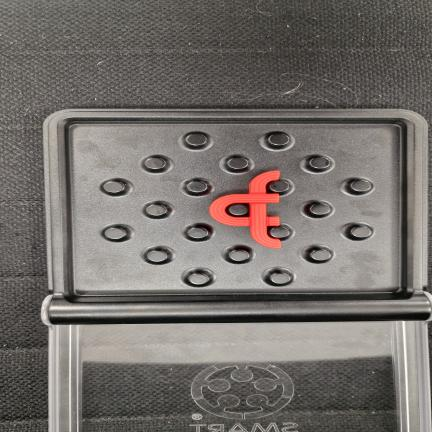E_Red: (210, 171, 281, 248)
board: (43, 109, 432, 324)
hinge: (40, 294, 432, 320)
pin: (268, 133, 289, 147), (144, 157, 166, 170), (103, 181, 125, 194), (145, 204, 167, 217), (146, 250, 168, 263), (269, 272, 291, 285), (309, 157, 330, 170), (227, 157, 248, 170), (228, 249, 249, 262), (188, 272, 209, 285), (186, 181, 208, 193), (309, 203, 331, 215), (104, 228, 126, 240), (350, 226, 372, 238), (309, 249, 331, 261), (269, 180, 289, 193), (270, 226, 290, 239), (350, 180, 371, 192), (187, 227, 208, 239), (228, 204, 248, 216)
